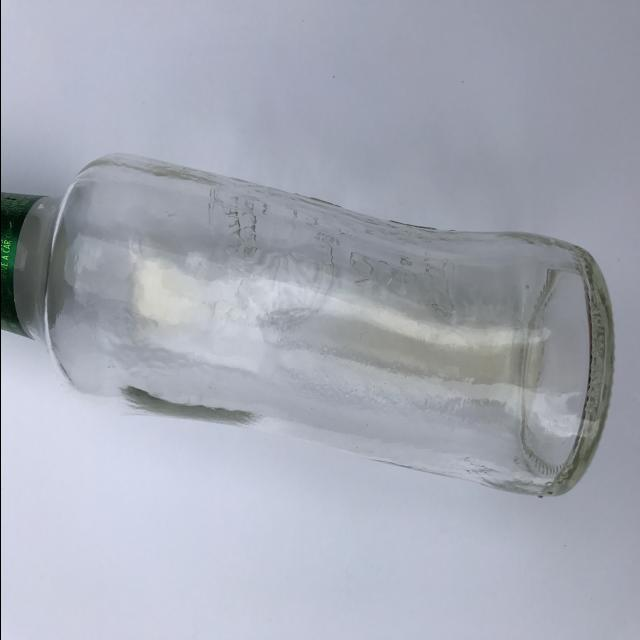glass: (0, 158, 618, 502)
